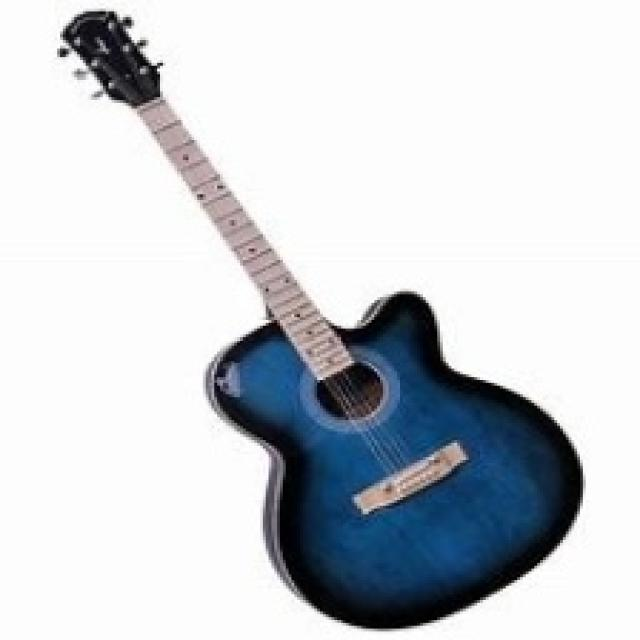guitar: (50, 6, 587, 632)
